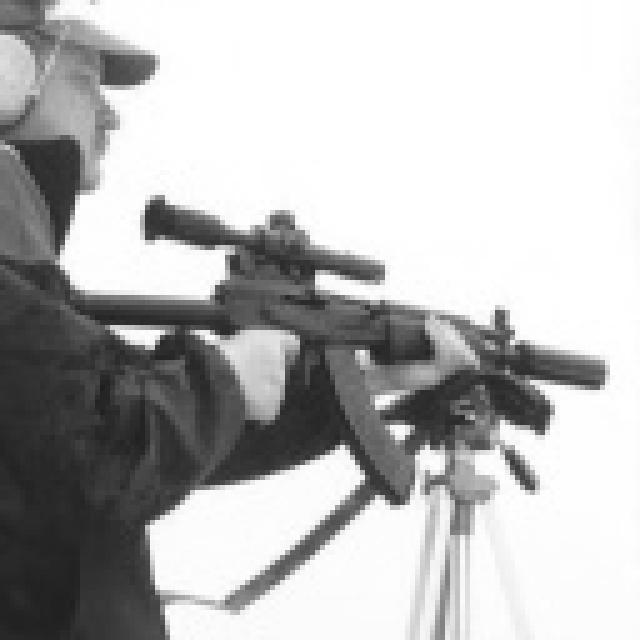Rifle: (0, 180, 620, 635)
